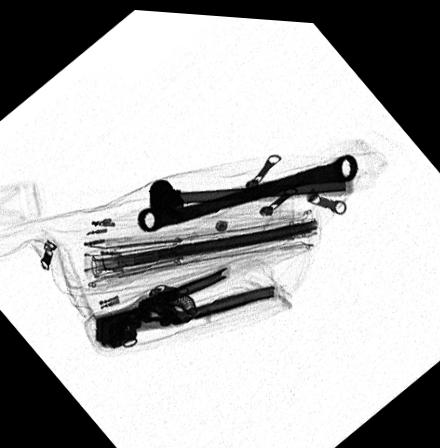Hammer: (151, 164, 349, 230)
Pliers: (91, 262, 277, 346)
Wrench: (137, 145, 358, 230)
